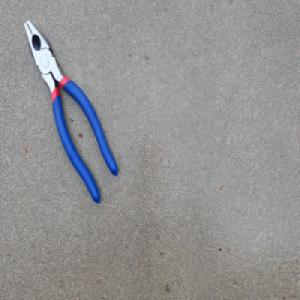Pliers: (23, 18, 119, 208)
